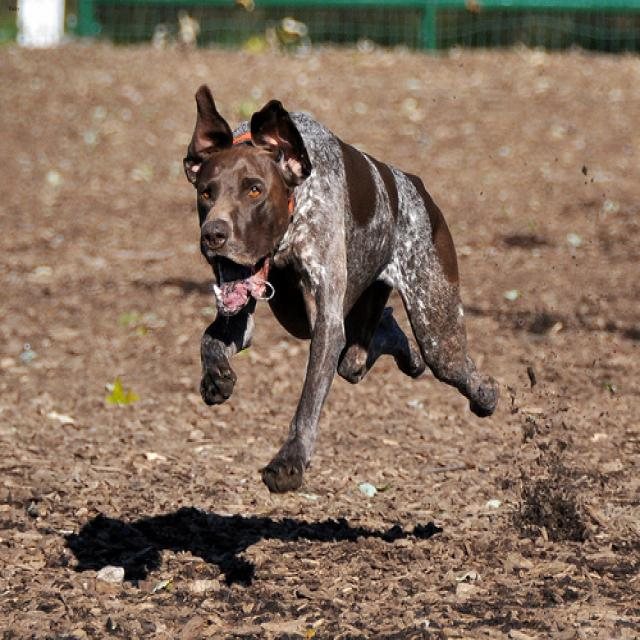dog-german_shorthaired: (182, 72, 511, 502)
